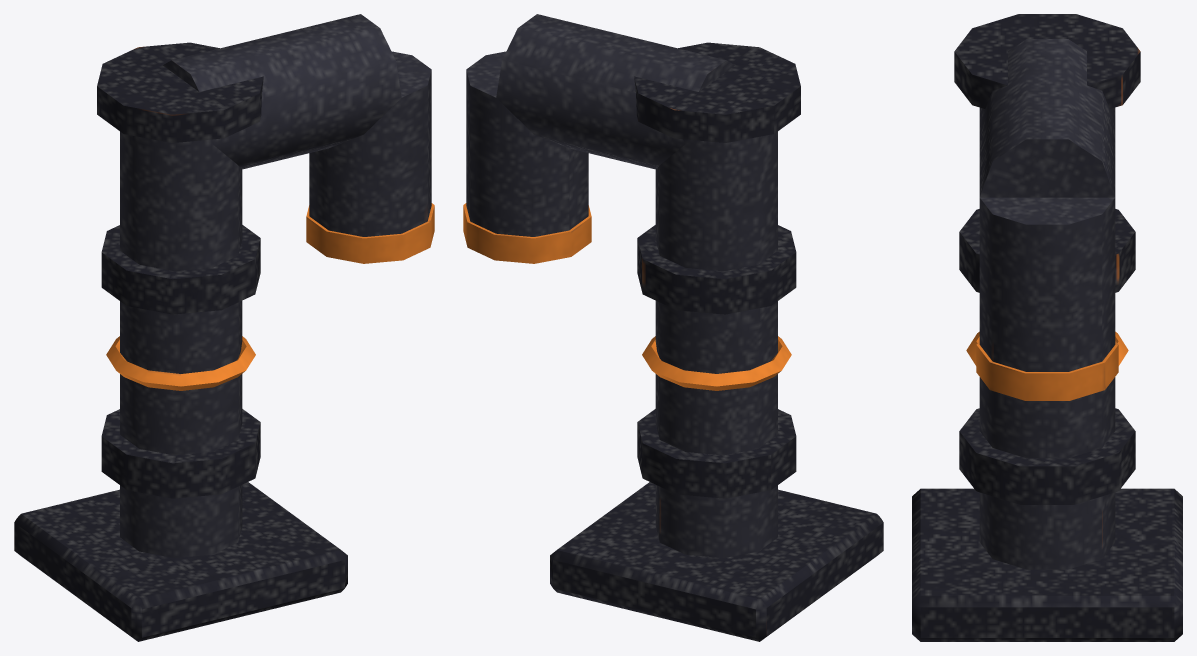
The model's file is forge_pipe.fbx.
The picture shows the model from 3 angles, left to right: view 1: azimuth 30°, elevation 25°; view 2: azimuth 150°, elevation 25°; view 3: azimuth 270°, elevation 25°; orthographic projection. The views are drawn at different scales.
Visible parts, largest first — view 1: Forge_pipe; view 2: Forge_pipe; view 3: Forge_pipe.
Part boxes in pixels (box(x1,y1,x2,y2)): Forge_pipe: box(14, 14, 434, 641); Forge_pipe: box(463, 14, 883, 641); Forge_pipe: box(912, 14, 1182, 641).
Bounding box in the file's own units: 2.6 × 3.58 × 1.6.
Materials: 1 (1 with a texture image).
